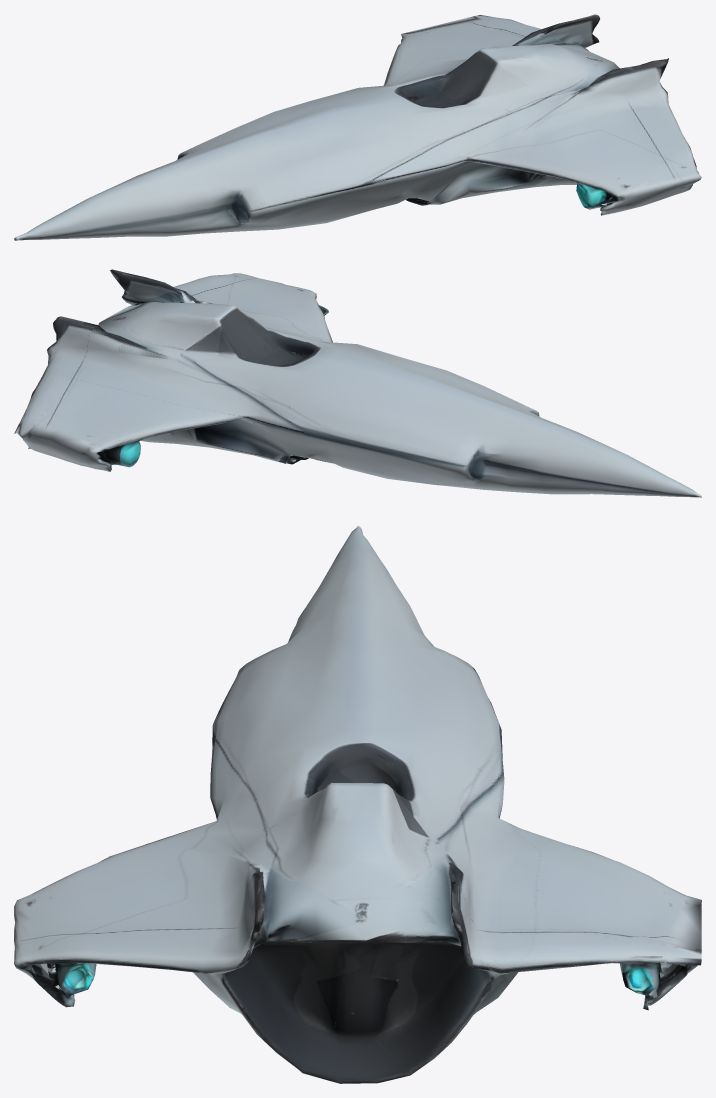
Rendered from Meshy_AI_Sleek_low_poly_racing_0112192605_texture.obj.
The picture shows the model from 3 angles, top to bottom: view 1: azimuth 30°, elevation 25°; view 2: azimuth 150°, elevation 25°; view 3: azimuth 270°, elevation 25°; orthographic projection. The views are drawn at different scales.
Parts seen in each view (by area): view 1: Meshy_AI_Sleek_low_poly_racing_0112192605_texture; view 2: Meshy_AI_Sleek_low_poly_racing_0112192605_texture; view 3: Meshy_AI_Sleek_low_poly_racing_0112192605_texture.
Boxes of the visible parts, box(x1,y1,x2,y2) form: Meshy_AI_Sleek_low_poly_racing_0112192605_texture: box(14, 14, 701, 240); Meshy_AI_Sleek_low_poly_racing_0112192605_texture: box(14, 269, 701, 497); Meshy_AI_Sleek_low_poly_racing_0112192605_texture: box(14, 526, 701, 1083).
Size of the model in its own units: 1.9 by 0.4066 by 1.16.
Materials: 1 (1 with a texture image).
